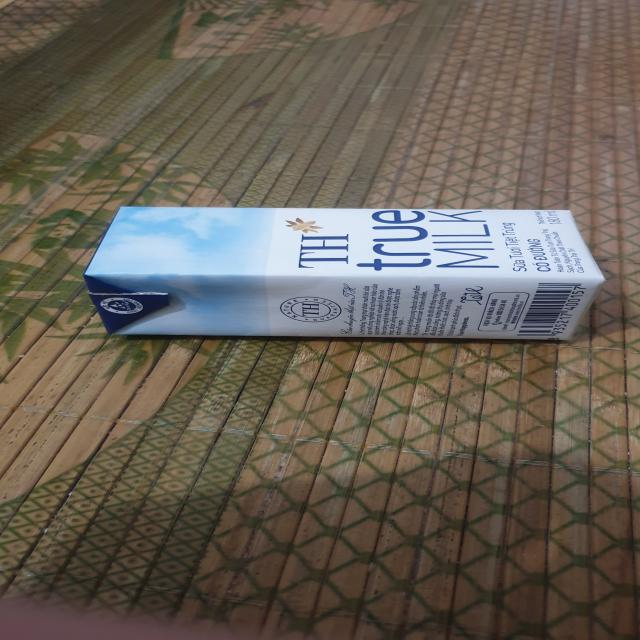TH: (80, 203, 608, 341)
